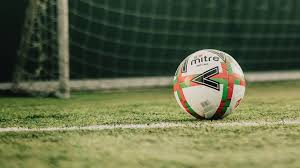football ball: (171, 47, 249, 124)
